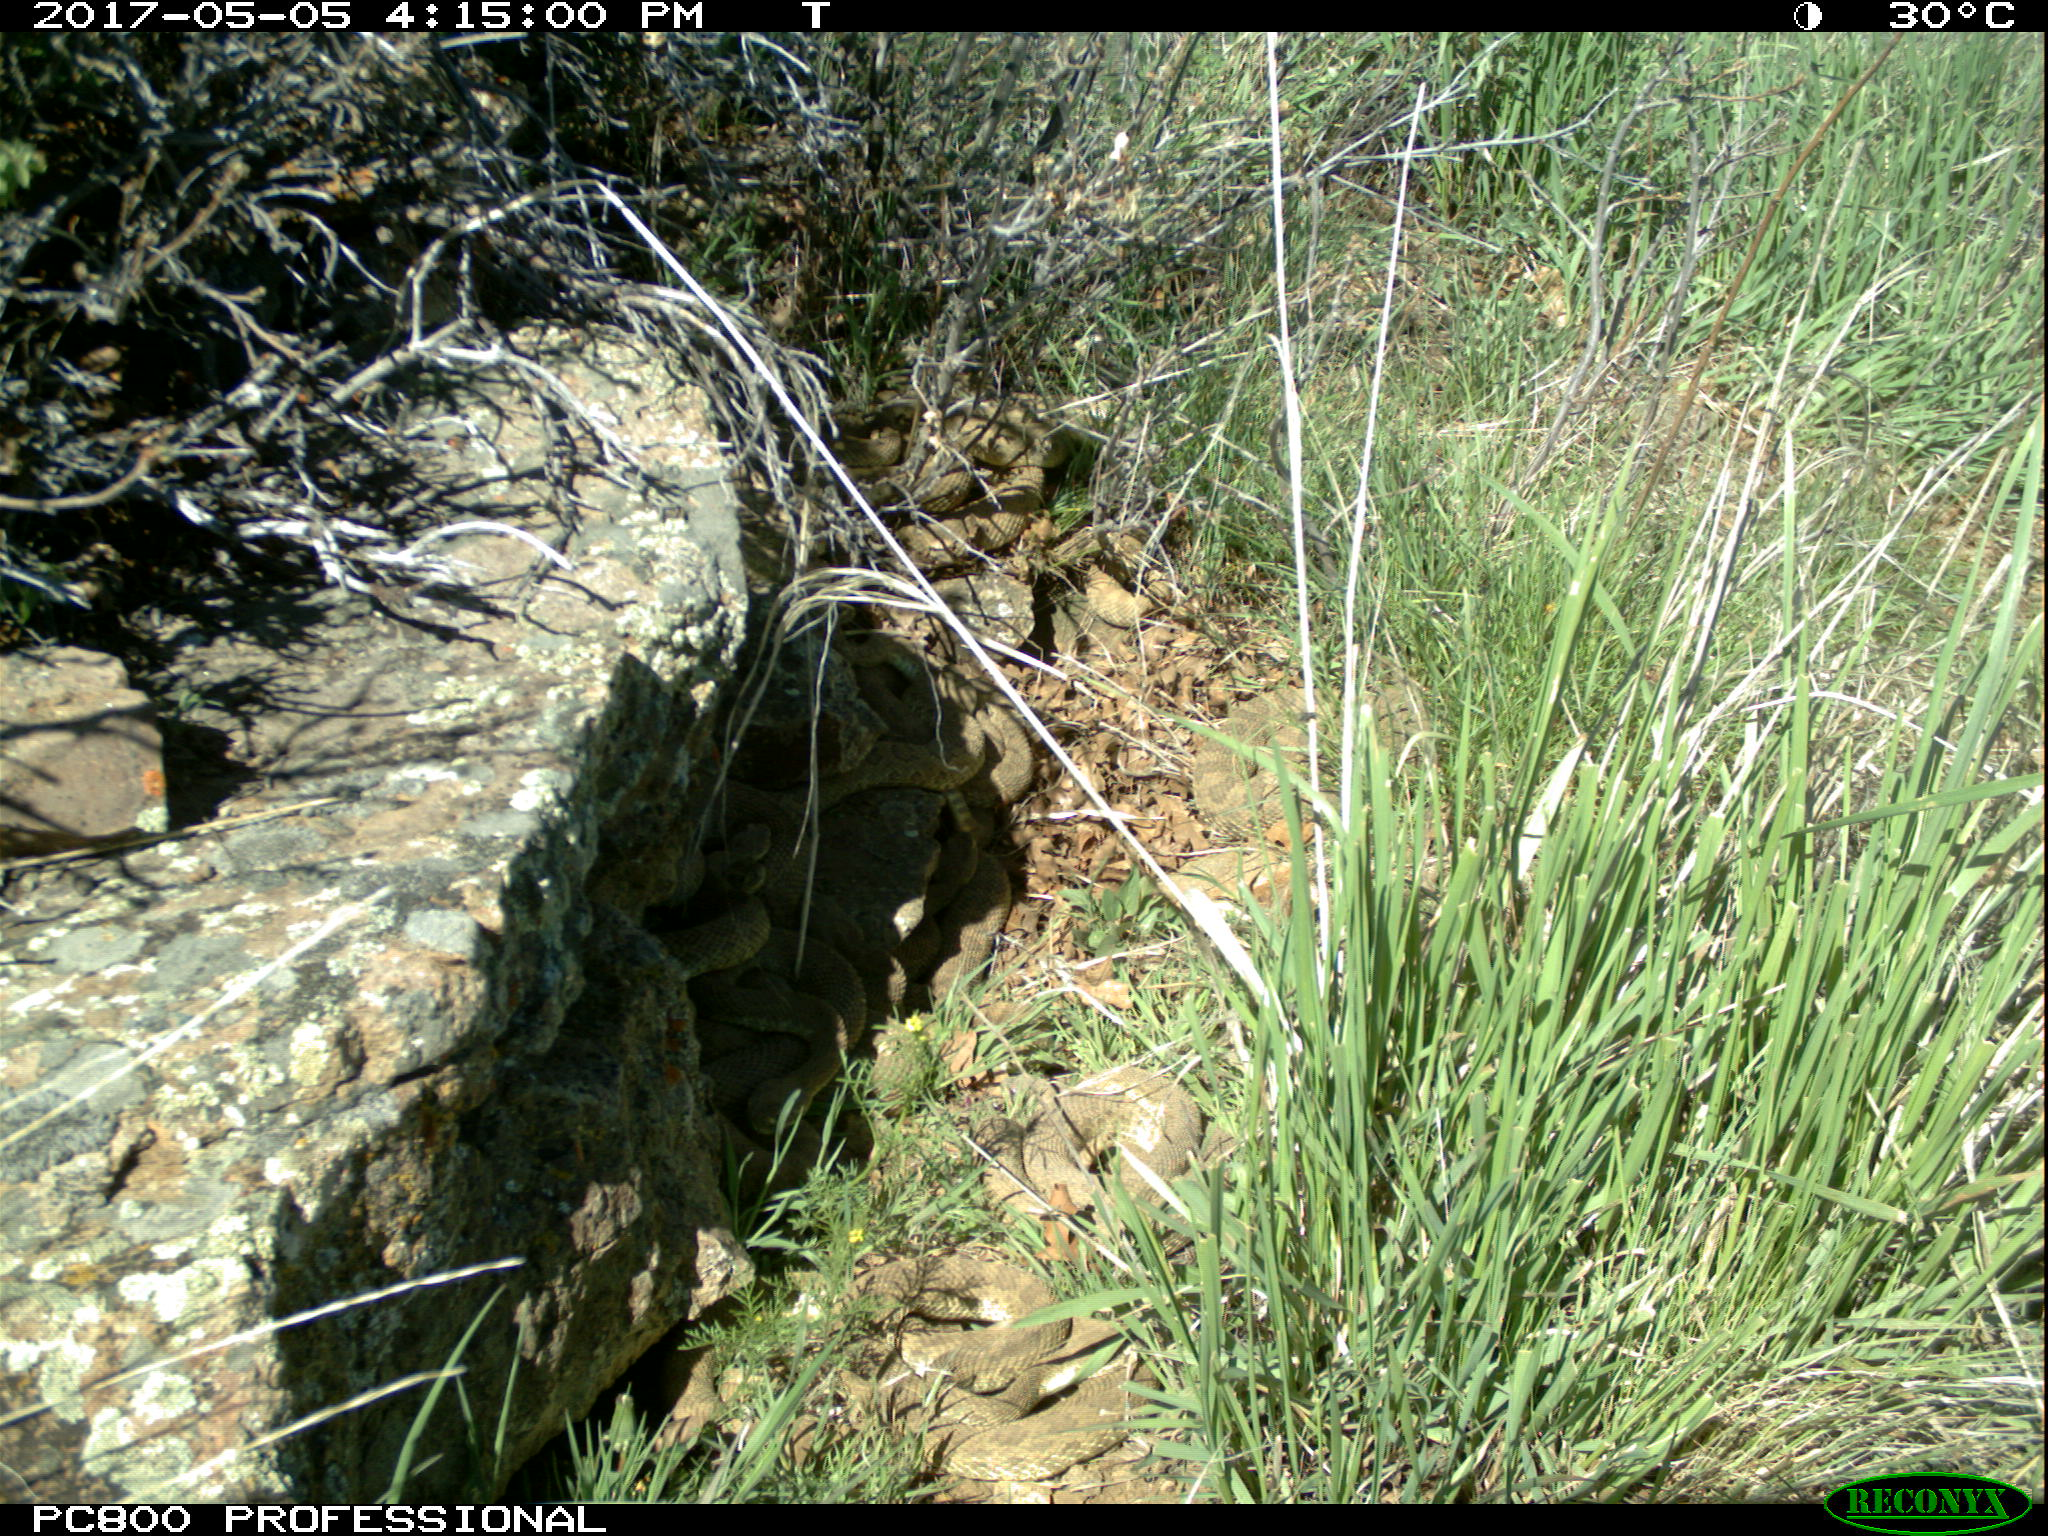snake: (824, 1247, 1151, 1476), (771, 684, 1056, 868), (684, 866, 877, 1133), (1014, 1063, 1248, 1225), (889, 415, 1059, 563), (1197, 679, 1343, 841), (656, 1342, 772, 1454), (1074, 547, 1171, 632)
